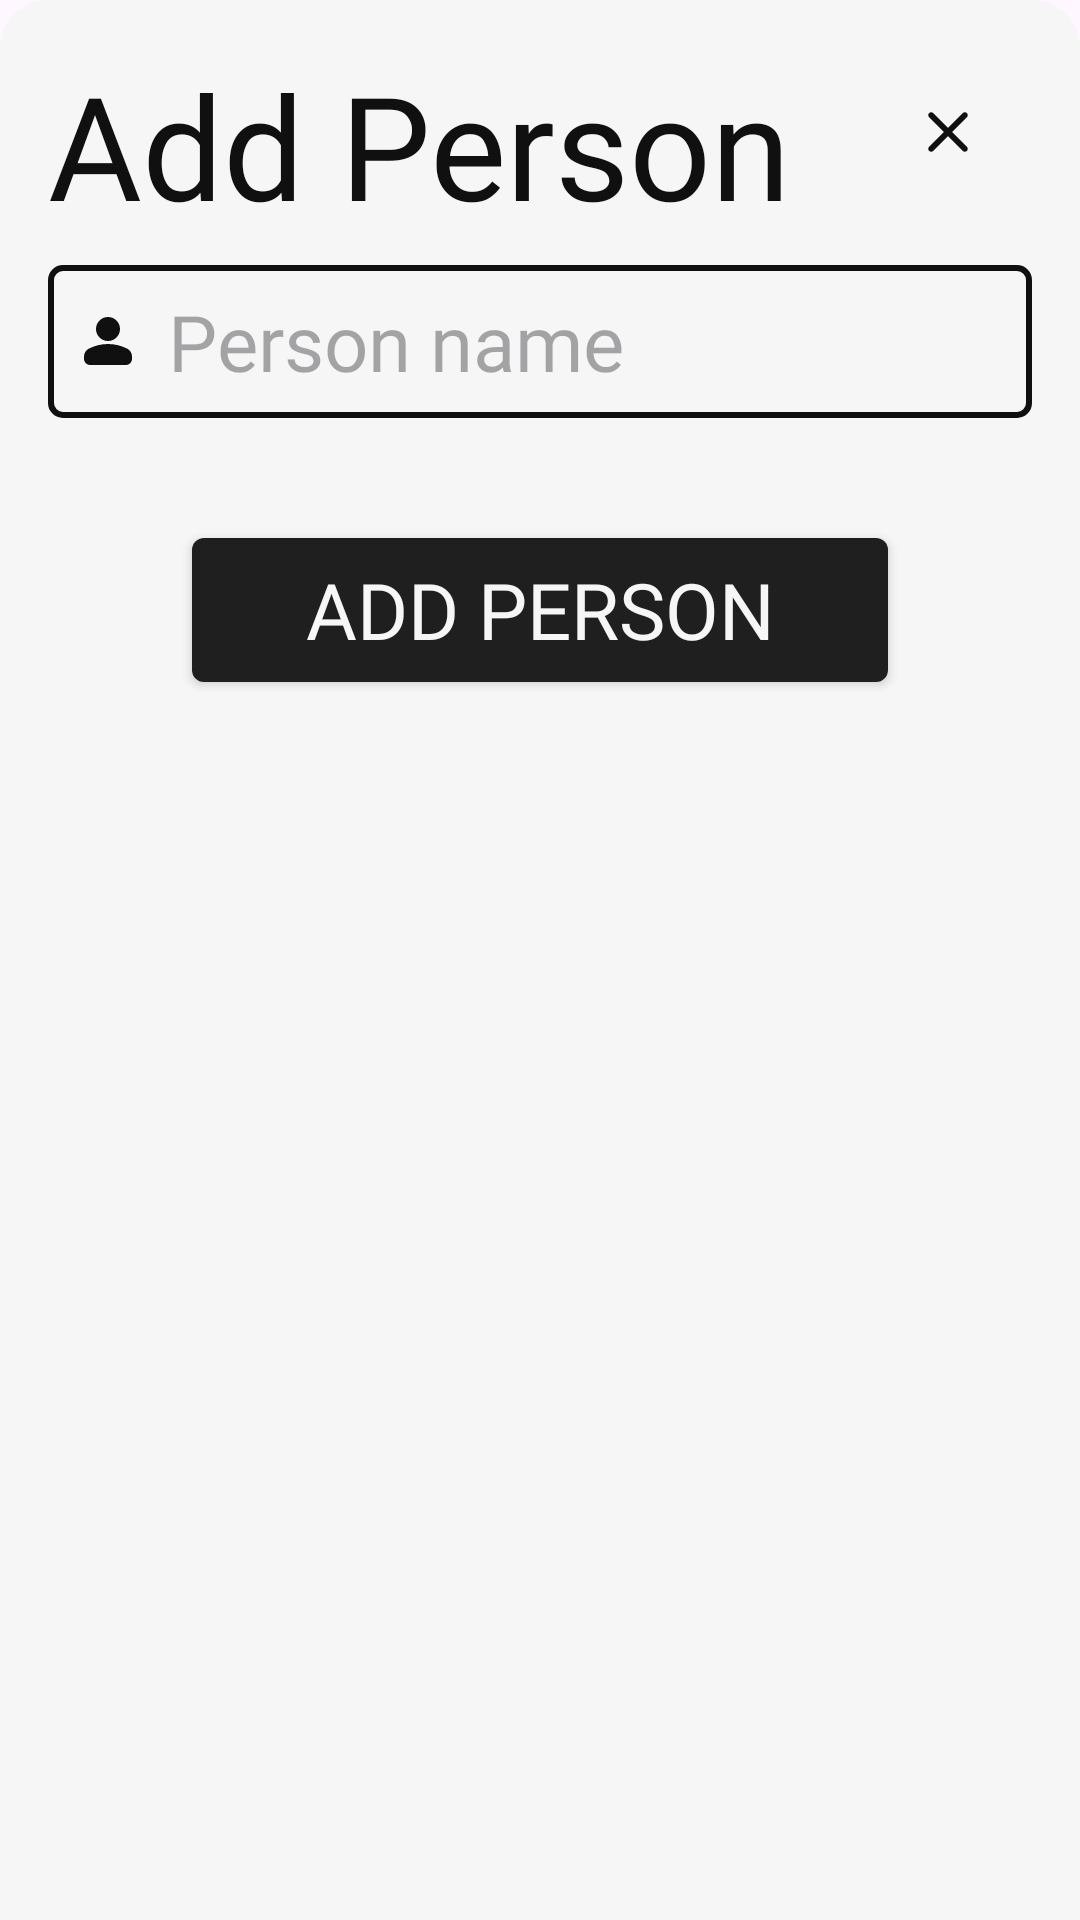

Named icons in this screenshot (1080×1920) and their centers, point (x, y):
close: point (948, 132)
